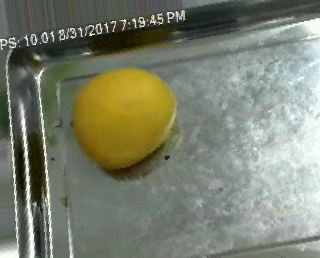Mango: (69, 68, 179, 177)
